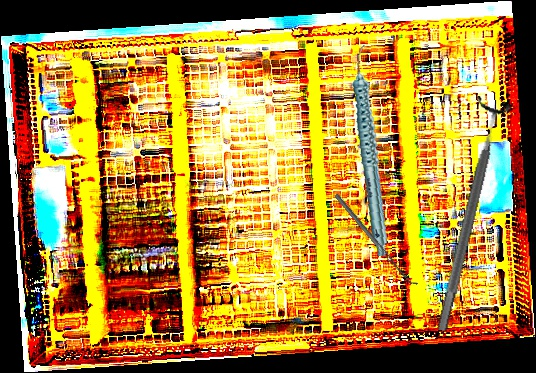Fixation Ring: (423, 95, 514, 335)
Handpiece: (330, 44, 413, 257)
Spatula Surgical: (334, 190, 419, 289)
